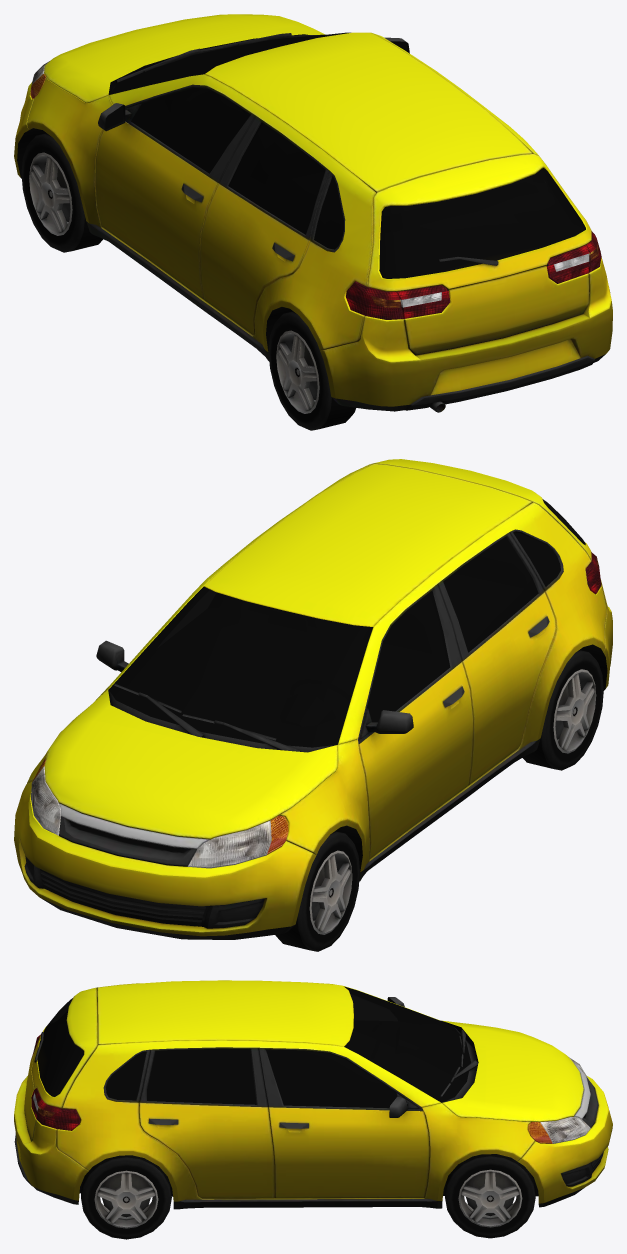
Rendered from car_hatchback.glb.
3 renders of one model, top to bottom at view 1: azimuth 30°, elevation 25°; view 2: azimuth 150°, elevation 25°; view 3: azimuth 270°, elevation 25°, orthographic. The views are drawn at different scales.
Parts seen in each view (by area): view 1: Hatchback Body_Body_0, Hatchback Body_Glass_0, Wheel_B001_Wheek_0, Wheel_B_Wheek_0, Hatchback Body_Optics_0; view 2: Hatchback Body_Body_0, Hatchback Body_Glass_0, Wheel_B_Wheek_0, Wheel_B001_Wheek_0, Hatchback Body_Optics_0; view 3: Hatchback Body_Body_0, Hatchback Body_Glass_0, Wheel_B002_Wheek_0, Wheel_B003_Wheek_0, Hatchback Body_Optics_0.
Part boxes in pixels (bbox=[...]): Hatchback Body_Body_0: bbox=[14, 14, 612, 412]; Hatchback Body_Glass_0: bbox=[109, 32, 585, 278]; Wheel_B001_Wheek_0: bbox=[268, 311, 355, 430]; Wheel_B_Wheek_0: bbox=[21, 133, 103, 252]; Hatchback Body_Optics_0: bbox=[30, 61, 601, 319]; Hatchback Body_Body_0: bbox=[14, 459, 612, 939]; Hatchback Body_Glass_0: bbox=[108, 499, 585, 747]; Wheel_B_Wheek_0: bbox=[275, 831, 359, 951]; Wheel_B001_Wheek_0: bbox=[522, 650, 603, 770]; Hatchback Body_Optics_0: bbox=[31, 552, 601, 868]; Hatchback Body_Body_0: bbox=[14, 980, 612, 1209]; Hatchback Body_Glass_0: bbox=[37, 986, 470, 1108]; Wheel_B002_Wheek_0: bbox=[444, 1154, 535, 1238]; Wheel_B003_Wheek_0: bbox=[81, 1155, 171, 1239]; Hatchback Body_Optics_0: bbox=[30, 1034, 590, 1143].
Size of the model in its own units: 1.8 by 1.4 by 4.1.
4 materials, 3 textured.
